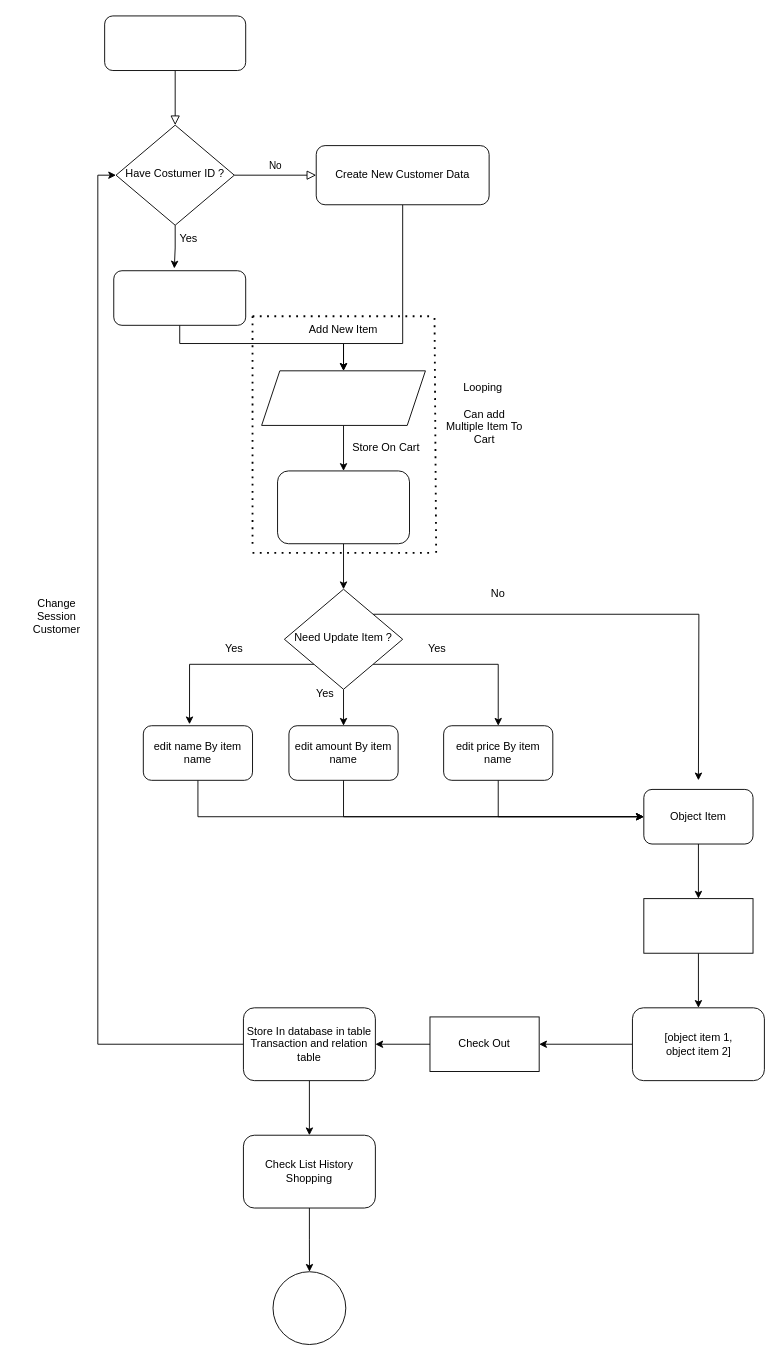
This 780x1360 diagram has some shape labels left out. Here are the shapes that lost their labels. From the top down, the centre of each, then its label:
(x=175, y=43): Self-Service Shopping
(x=179, y=297): Login with Customer ID
(x=343, y=397): Item_name, item_amount, item_price
(x=343, y=507): { item_name: mobil item_amount: 1 item_price: 100000 }
(x=698, y=925): Check Order
(x=309, y=1308): End
